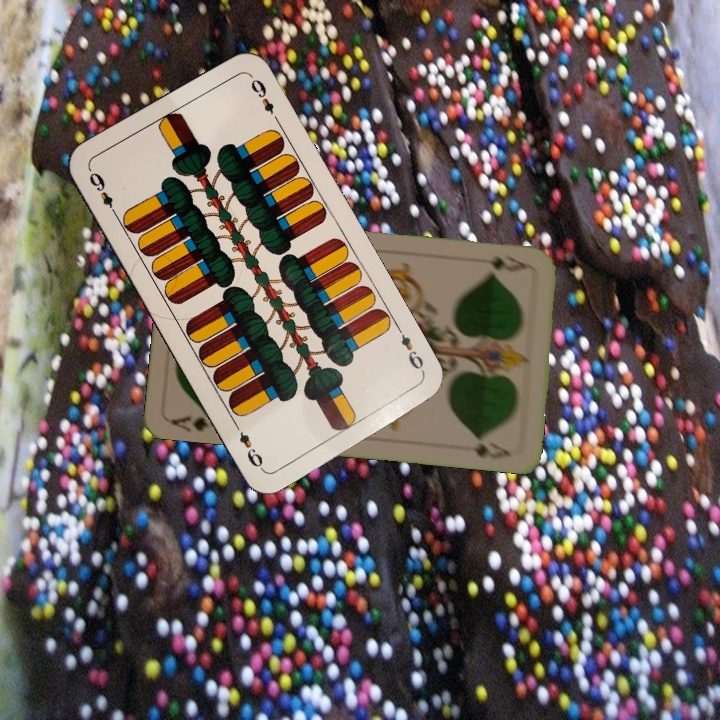E9: (85, 166, 121, 220), (393, 323, 428, 378)
GA: (475, 250, 534, 275), (168, 407, 213, 433)
